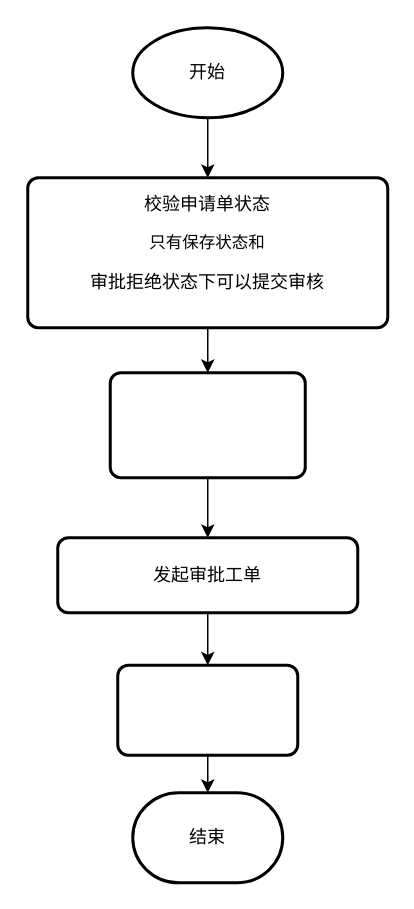
This 414x909 diagram has some shape labels left out. The shapes that lost their labels are listed below. From the top down, each one's box as (x1, y1, x2, y2) in pixels, then its label:
(108, 370, 306, 478): 校验模板是否存在
(116, 663, 298, 756): 修改申请单状态为审批中
